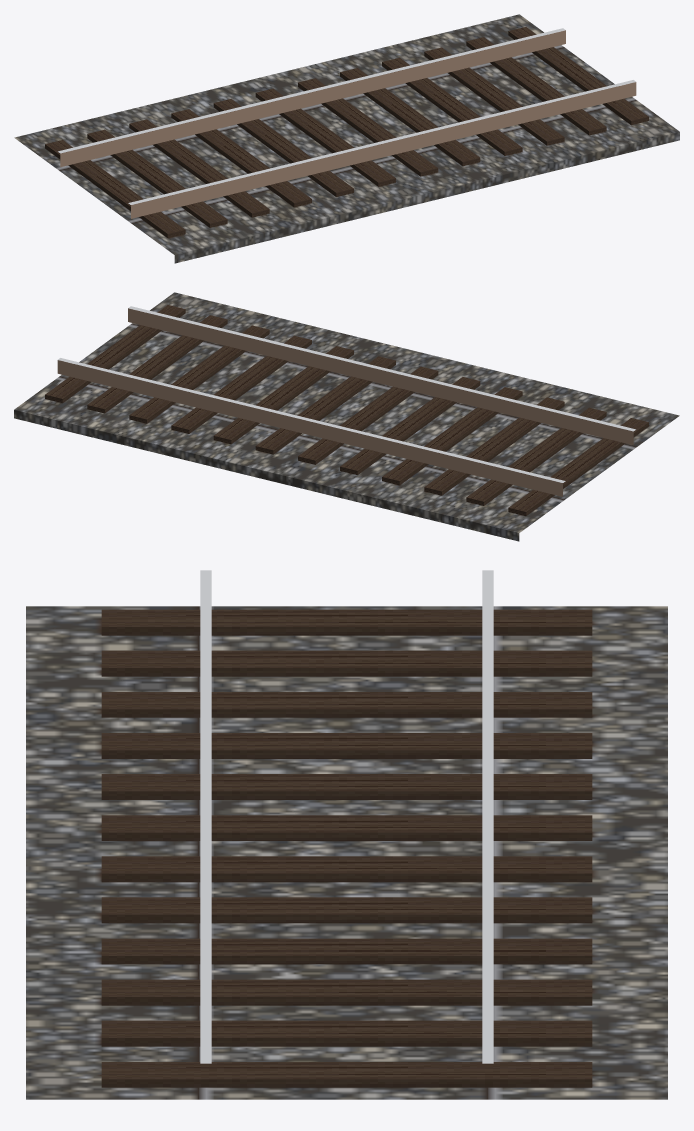
Rendered from kolej_pul_drevo_siroka.glb.
The picture shows the model from 3 angles, top to bottom: view 1: azimuth 30°, elevation 25°; view 2: azimuth 150°, elevation 25°; view 3: azimuth 270°, elevation 25°; orthographic projection. The views are drawn at different scales.
Parts seen in each view (by area): view 1: kolej_pul_drevo_siroka; view 2: kolej_pul_drevo_siroka; view 3: kolej_pul_drevo_siroka.
Part boxes in pixels (<box>): kolej_pul_drevo_siroka: <box>14,14,679,263</box>; kolej_pul_drevo_siroka: <box>14,292,679,541</box>; kolej_pul_drevo_siroka: <box>26,570,667,1099</box>.
Bounding box in the file's own units: 7.42 × 0.373 × 4.08.
Materials: 4 (2 with a texture image).
